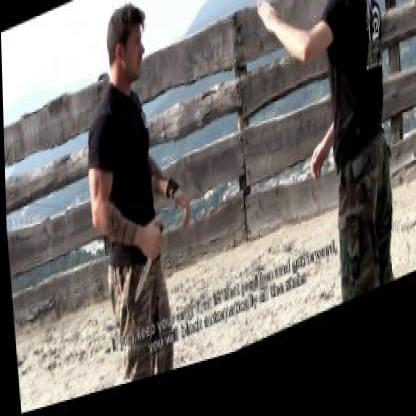knife: (124, 226, 169, 314)
